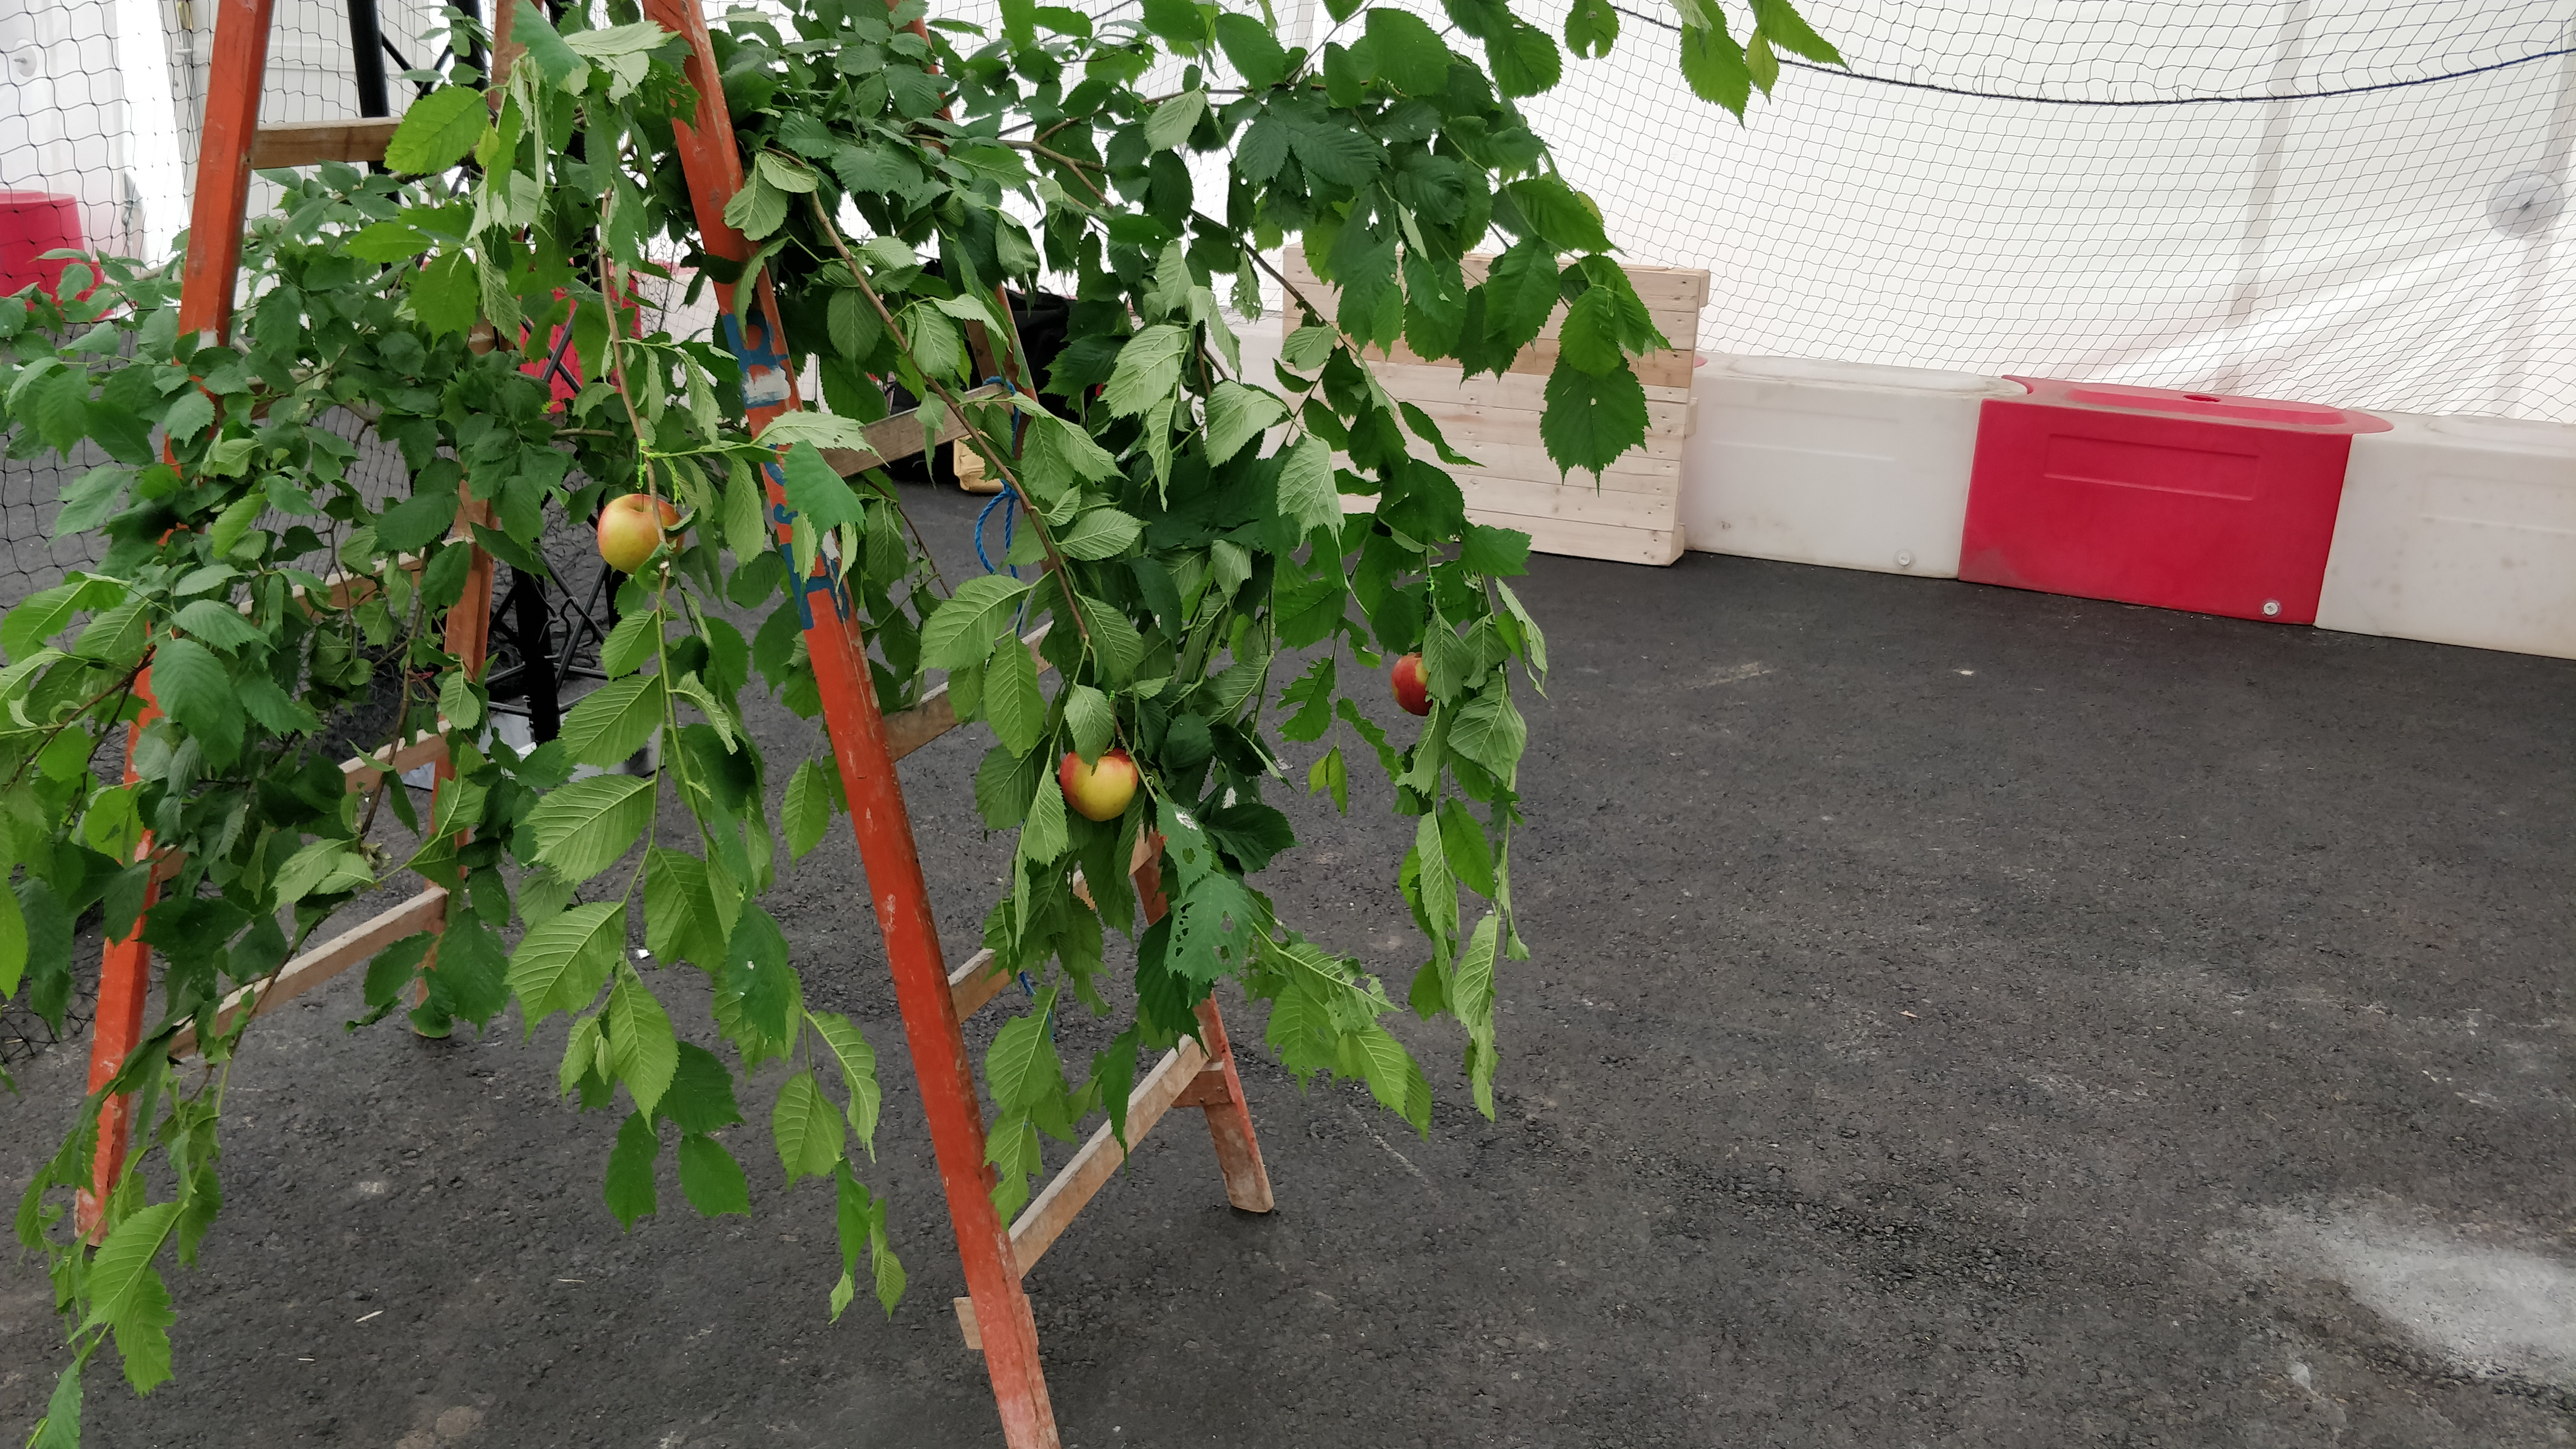apple: (598, 495, 685, 577), (1060, 747, 1138, 821), (1392, 651, 1435, 717)
